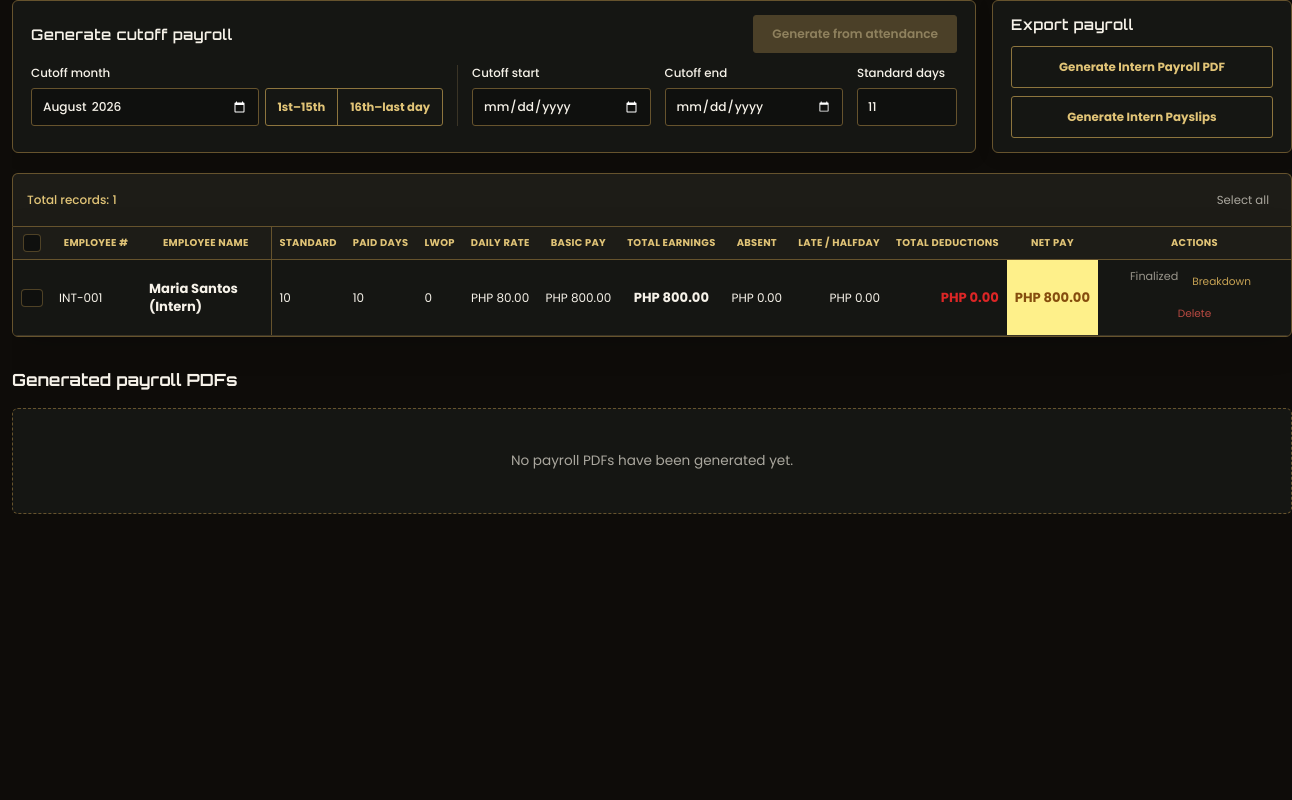
Scenario: PayrollWorkspace › shows backend errors and never opens the browser print dialog
The width and height of the screenshot is (1292, 800).
Click the button "Generate Intern Payroll PDF".
click(1142, 67)  # box [1011,46,1273,88]
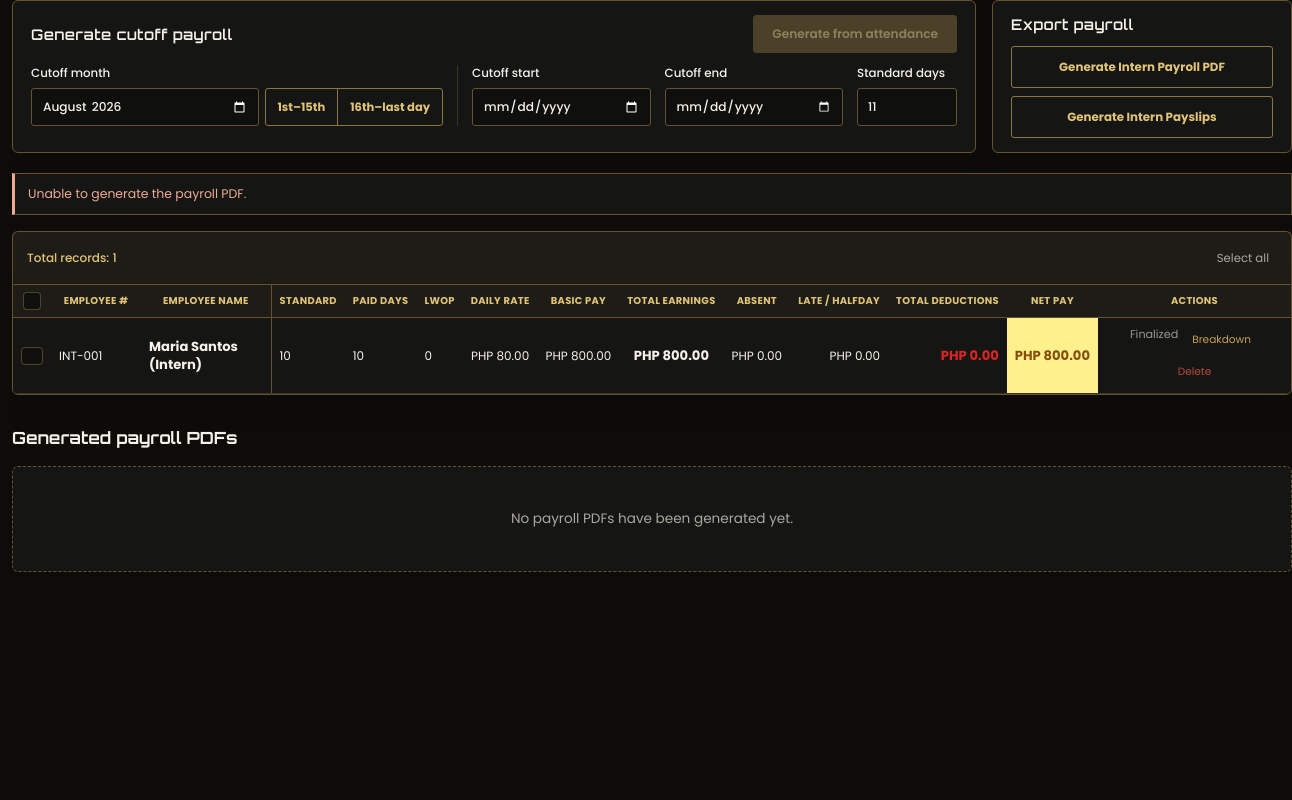
Check: the text "Unable to generate the payroll PDF." is shown, box [12,173,1291,215]
